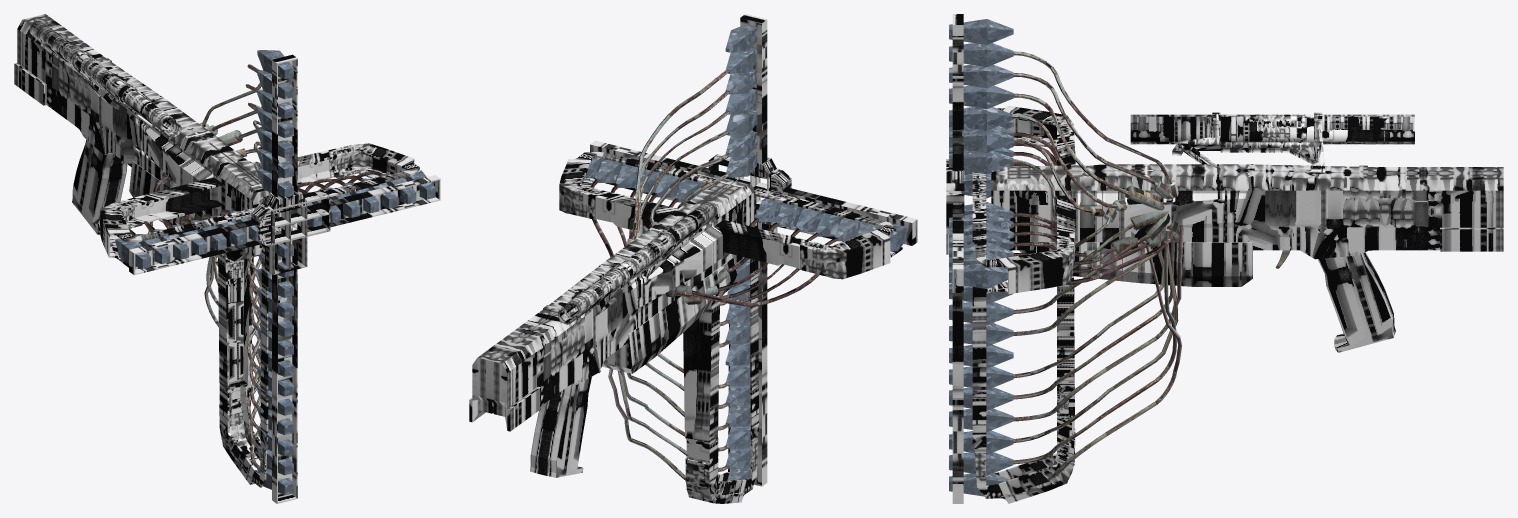
The model's file is SM_BlankState_00.fbx.
3 renders of one model, left to right at view 1: azimuth 30°, elevation 25°; view 2: azimuth 150°, elevation 25°; view 3: azimuth 270°, elevation 25°, orthographic. The views are drawn at different scales.
Visible parts, largest first — view 1: SM_BlankState_00, SM_BlankState_00.023, SM_BlankState_00.024, SM_BlankState_00.025; view 2: SM_BlankState_00, SM_BlankState_00.023, SM_BlankState_00.024, SM_BlankState_00.025; view 3: SM_BlankState_00, SM_BlankState_00.023, SM_BlankState_00.024, SM_BlankState_00.025.
Part boxes in pixels (box(x1,y1,x2,y2)): SM_BlankState_00: box(14, 14, 440, 503); SM_BlankState_00.023: box(115, 50, 435, 494); SM_BlankState_00.024: box(128, 64, 382, 468); SM_BlankState_00.025: box(162, 122, 256, 220); SM_BlankState_00: box(469, 14, 917, 503); SM_BlankState_00.023: box(584, 25, 906, 480); SM_BlankState_00.024: box(590, 69, 837, 480); SM_BlankState_00.025: box(627, 217, 729, 304); SM_BlankState_00: box(946, 14, 1503, 503); SM_BlankState_00.023: box(949, 19, 1013, 496); SM_BlankState_00.024: box(1012, 51, 1184, 480); SM_BlankState_00.025: box(1050, 180, 1179, 259).
Bounding box in the file's own units: 64.74 × 88.95 × 93.83.
